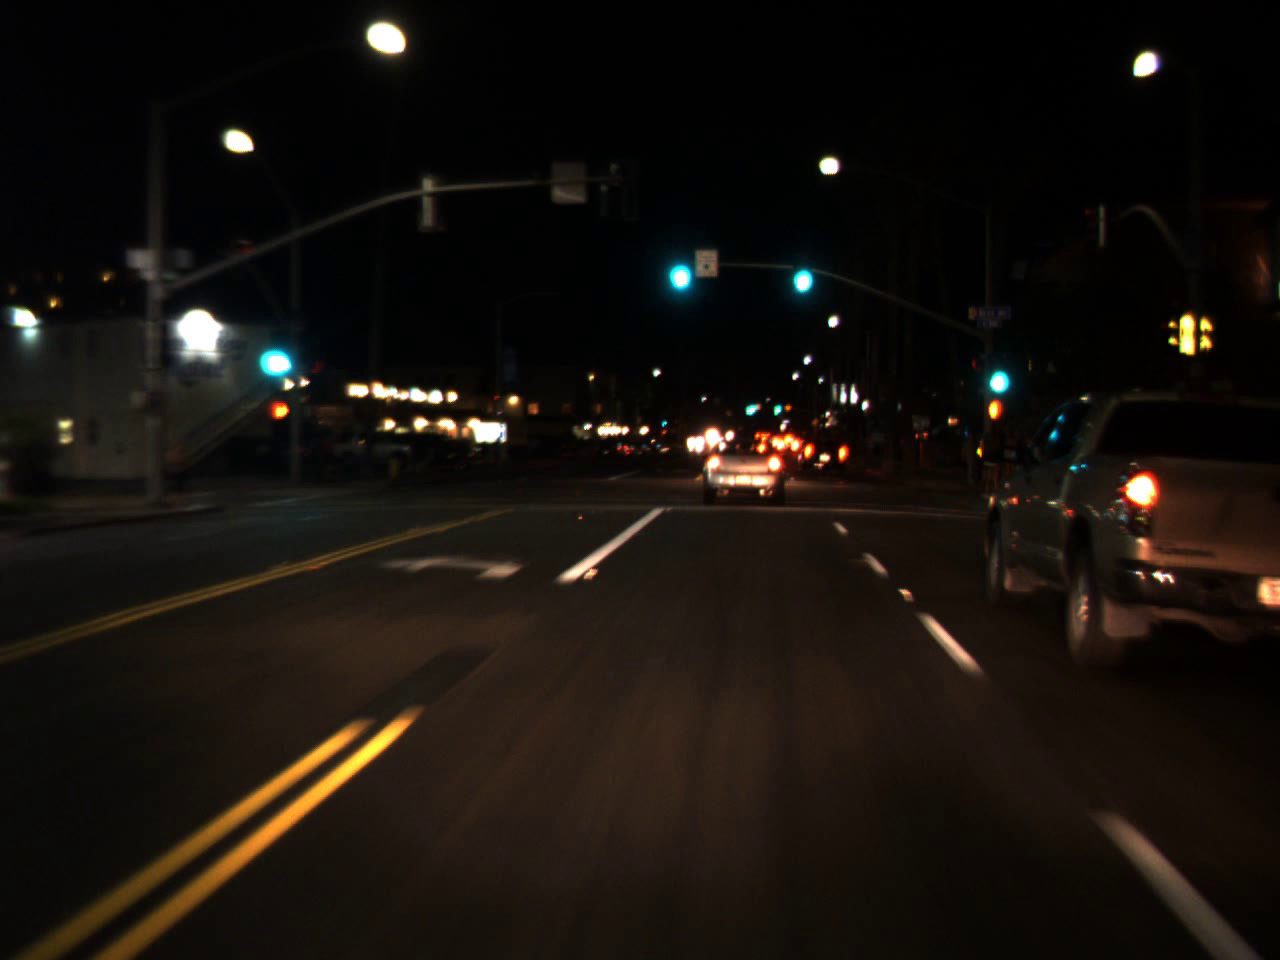go: (247, 311, 299, 389), (660, 231, 696, 300), (785, 239, 817, 302), (981, 342, 1013, 402), (743, 394, 753, 418), (772, 392, 779, 419), (660, 416, 667, 428)
